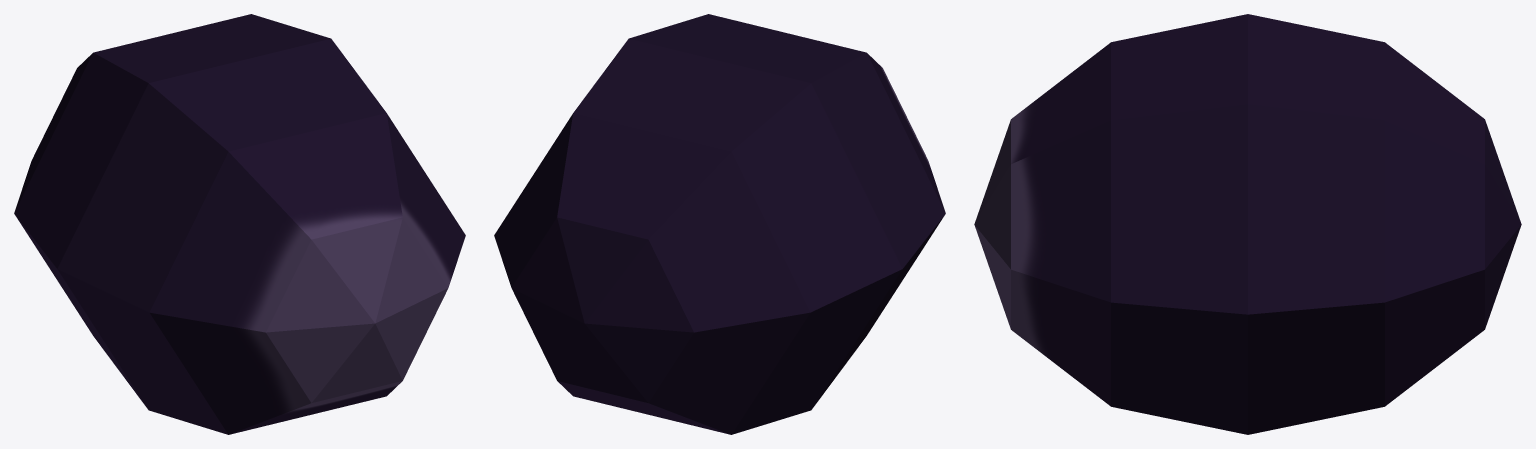
File: Chimney_Bullet.fbx
3 renders of one model, left to right at view 1: azimuth 30°, elevation 25°; view 2: azimuth 150°, elevation 25°; view 3: azimuth 270°, elevation 25°, orthographic.
Visible parts, largest first — view 1: pSphere1; view 2: pSphere1; view 3: pSphere1.
Boxes of the visible parts, box(x1,y1,x2,y2) form: pSphere1: box(14, 14, 465, 434); pSphere1: box(494, 14, 945, 434); pSphere1: box(974, 14, 1521, 434).
Bounding box in the file's own units: 0.0551 × 0.0471 × 0.0706.
Materials: 1 (1 with a texture image).
